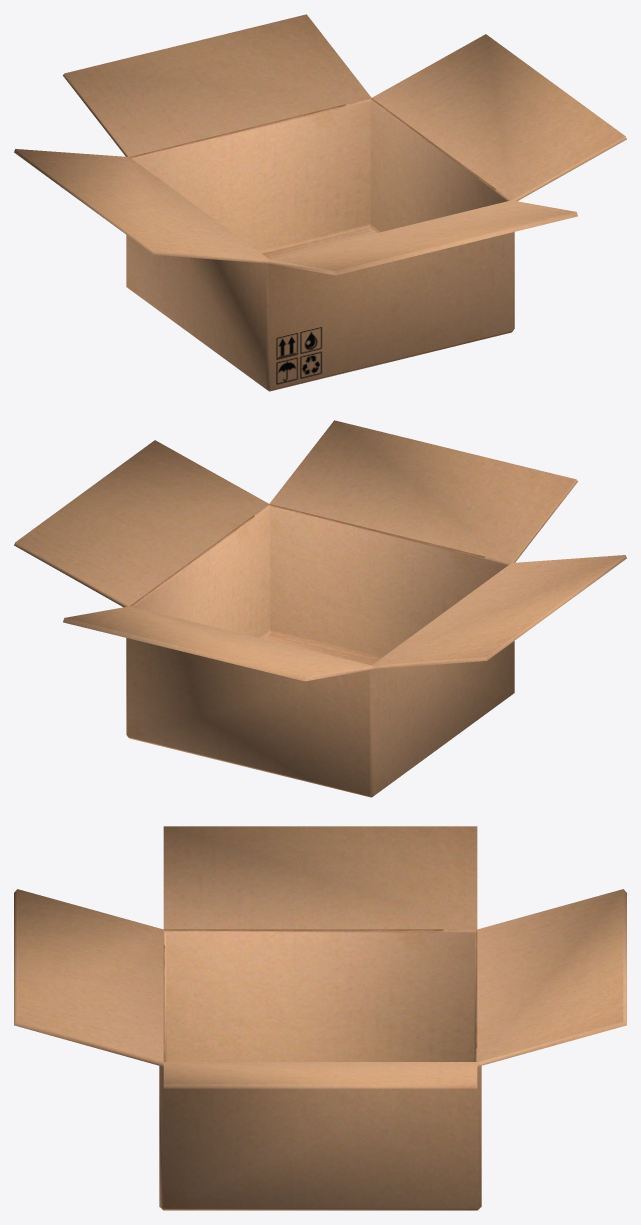
Rendered from o_OpenBox.FBX.
3 renders of one model, top to bottom at view 1: azimuth 30°, elevation 25°; view 2: azimuth 150°, elevation 25°; view 3: azimuth 270°, elevation 25°, orthographic. The views are drawn at different scales.
Parts seen in each view (by area): view 1: o_OpenBox; view 2: o_OpenBox; view 3: o_OpenBox.
Boxes of the visible parts, x1=… form: o_OpenBox: x1=14, y1=14, x2=626, y2=391; o_OpenBox: x1=14, y1=420, x2=626, y2=797; o_OpenBox: x1=14, y1=826, x2=626, y2=1210.
Size of the model in its own units: 75.5 by 25.66 by 75.5.
